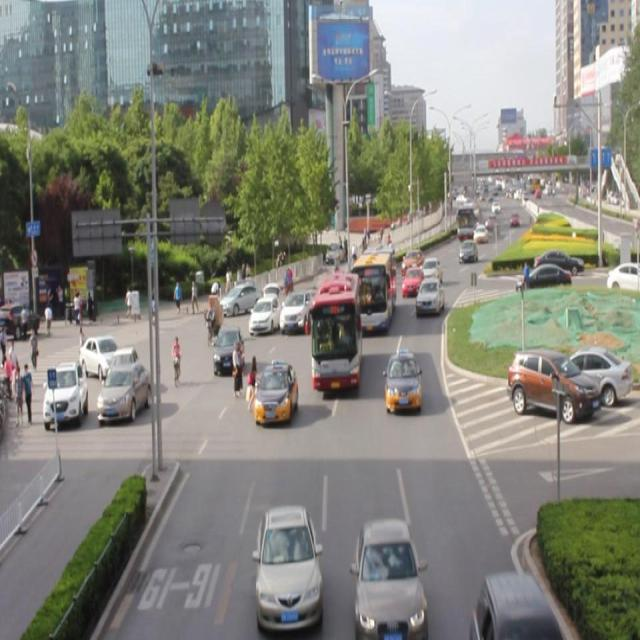car: (355, 516, 423, 640), (258, 506, 318, 628), (472, 569, 560, 640), (254, 361, 298, 425), (384, 351, 421, 411), (280, 286, 315, 336), (213, 325, 247, 373), (249, 293, 282, 334), (415, 278, 443, 315), (419, 257, 442, 289), (402, 266, 424, 298), (402, 249, 424, 278)
van: (313, 274, 359, 385), (353, 250, 392, 332)
